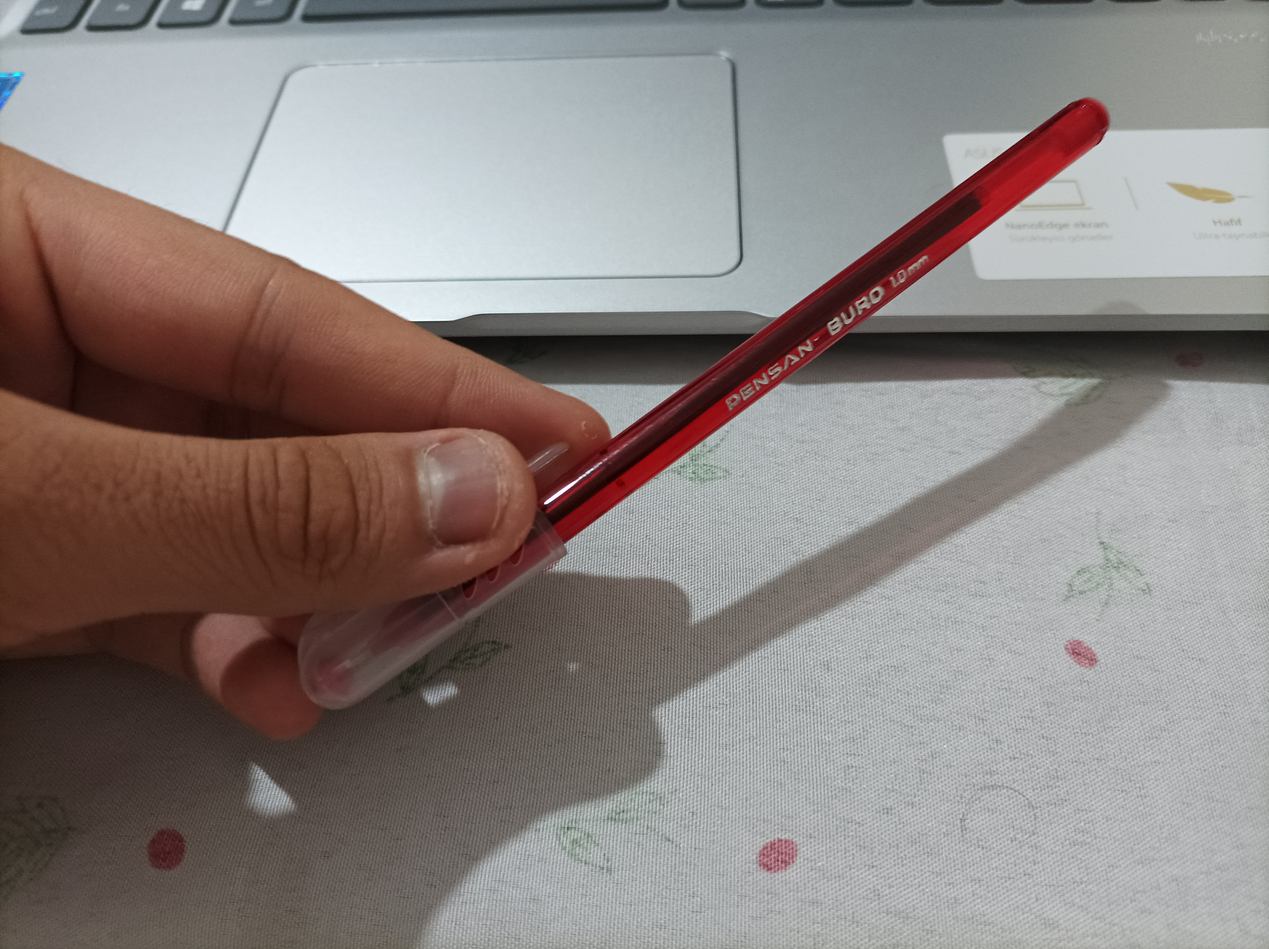plastic: (303, 98, 1127, 710)
